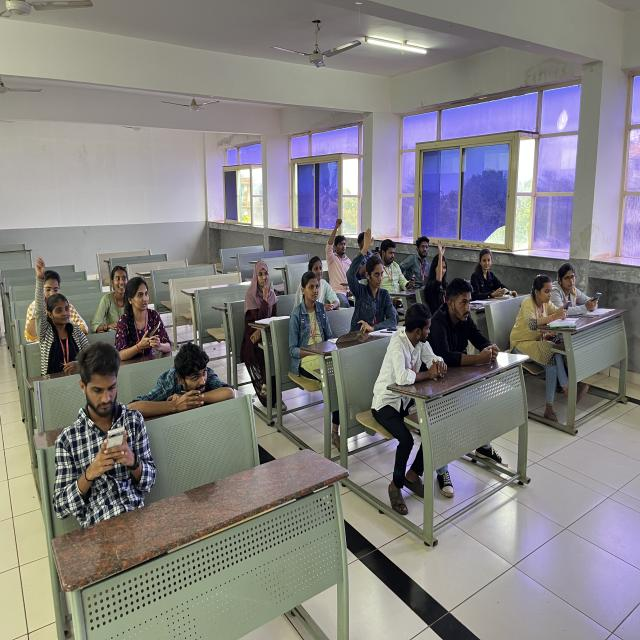Hand Rising: (30, 252, 93, 367), (350, 222, 393, 330), (324, 214, 356, 294), (427, 237, 453, 308)
Sleeping: (131, 337, 238, 420)
Using Phone: (45, 336, 160, 536), (111, 275, 172, 356), (516, 273, 572, 354), (548, 257, 604, 323), (468, 246, 512, 304), (379, 238, 418, 298)
